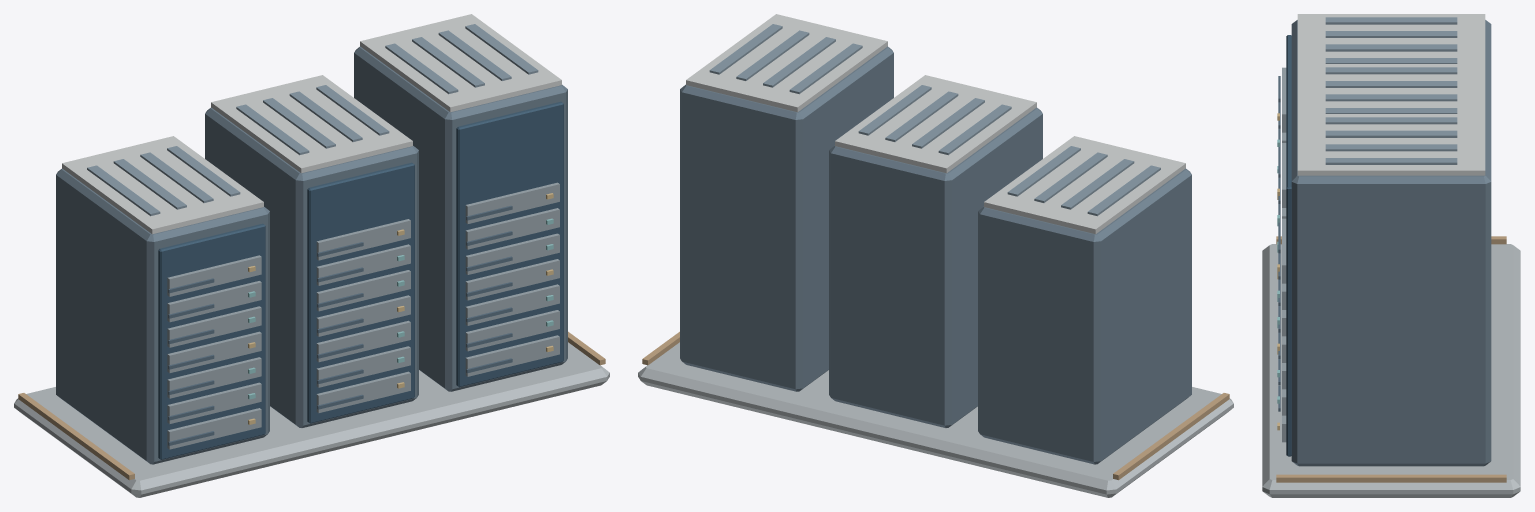
The model's file is data.glb.
The picture shows the model from 3 angles, left to right: view 1: azimuth 30°, elevation 25°; view 2: azimuth 150°, elevation 25°; view 3: azimuth 270°, elevation 25°; orthographic projection. The views are drawn at different scales.
Visible parts, largest first — view 1: data; view 2: data; view 3: data.
Boxes of the visible parts, x1,y1,x2,y2 form: data: [14, 14, 609, 497]; data: [638, 14, 1233, 497]; data: [1262, 14, 1520, 497].
Bounding box in the file's own units: 12.2 × 7.41 × 5.5.
